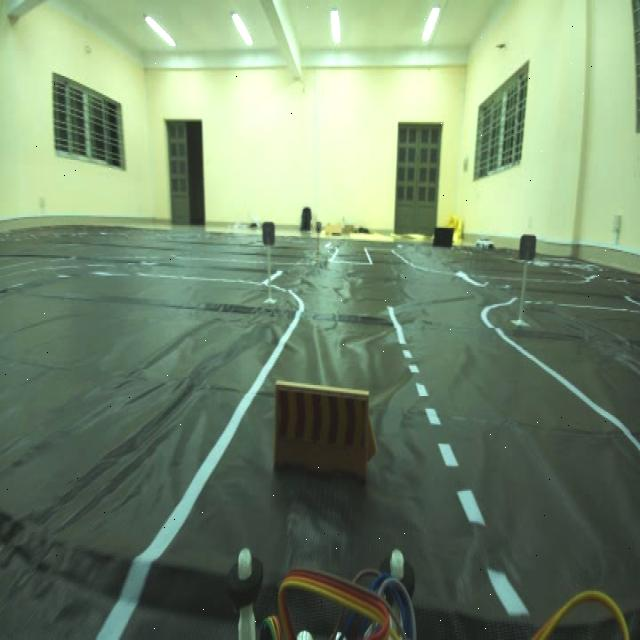roadblock: (271, 373, 379, 490)
